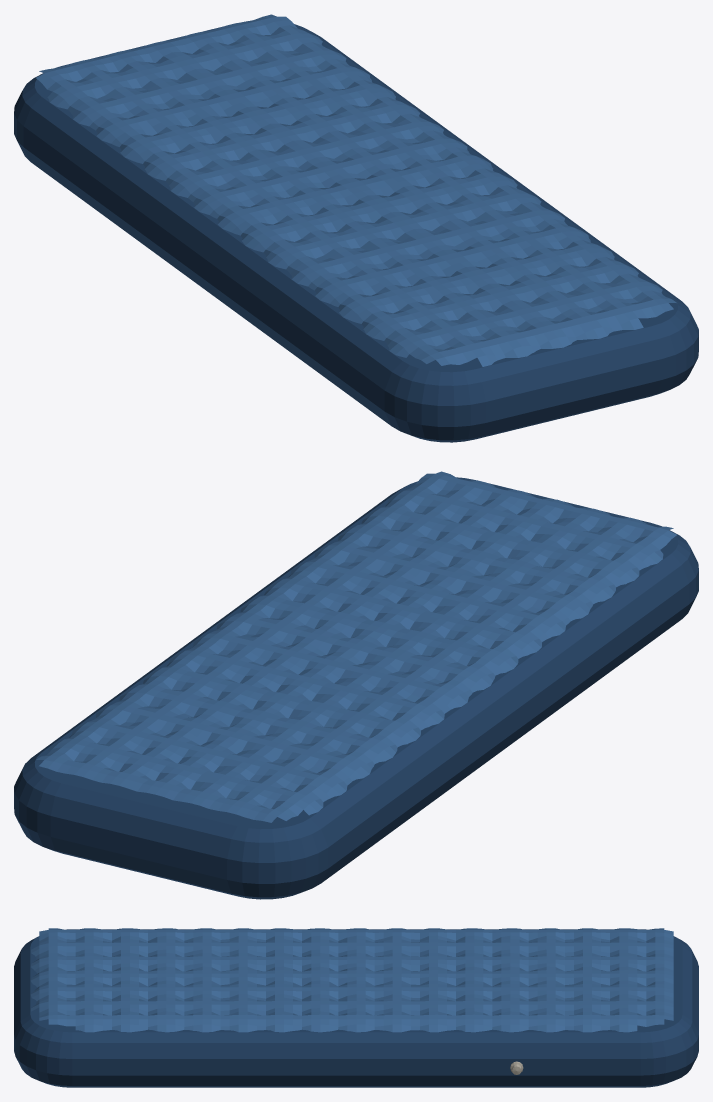
The model's file is air-mattress.glb.
3 renders of one model, top to bottom at view 1: azimuth 30°, elevation 25°; view 2: azimuth 150°, elevation 25°; view 3: azimuth 270°, elevation 25°, orthographic. The views are drawn at different scales.
Visible parts, largest first — view 1: airMattress; view 2: airMattress; view 3: airMattress.
Boxes of the visible parts, left/top/right/bottom form: airMattress: left=14, top=14, right=698, bottom=442; airMattress: left=14, top=471, right=698, bottom=899; airMattress: left=14, top=928, right=698, bottom=1087.
Size of the model in its own units: 0.784 by 0.192 by 1.88.
